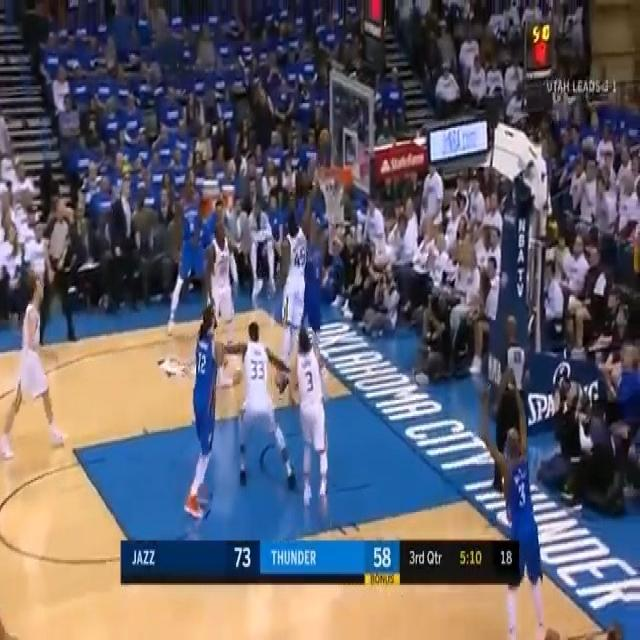hoop: (312, 156, 355, 236)
